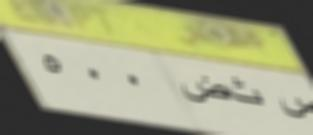0: (120, 73, 150, 96), (81, 60, 101, 88)
5: (34, 55, 73, 82)
daad: (181, 75, 229, 108)
seen: (280, 94, 313, 123)
thaa: (229, 74, 267, 108)
